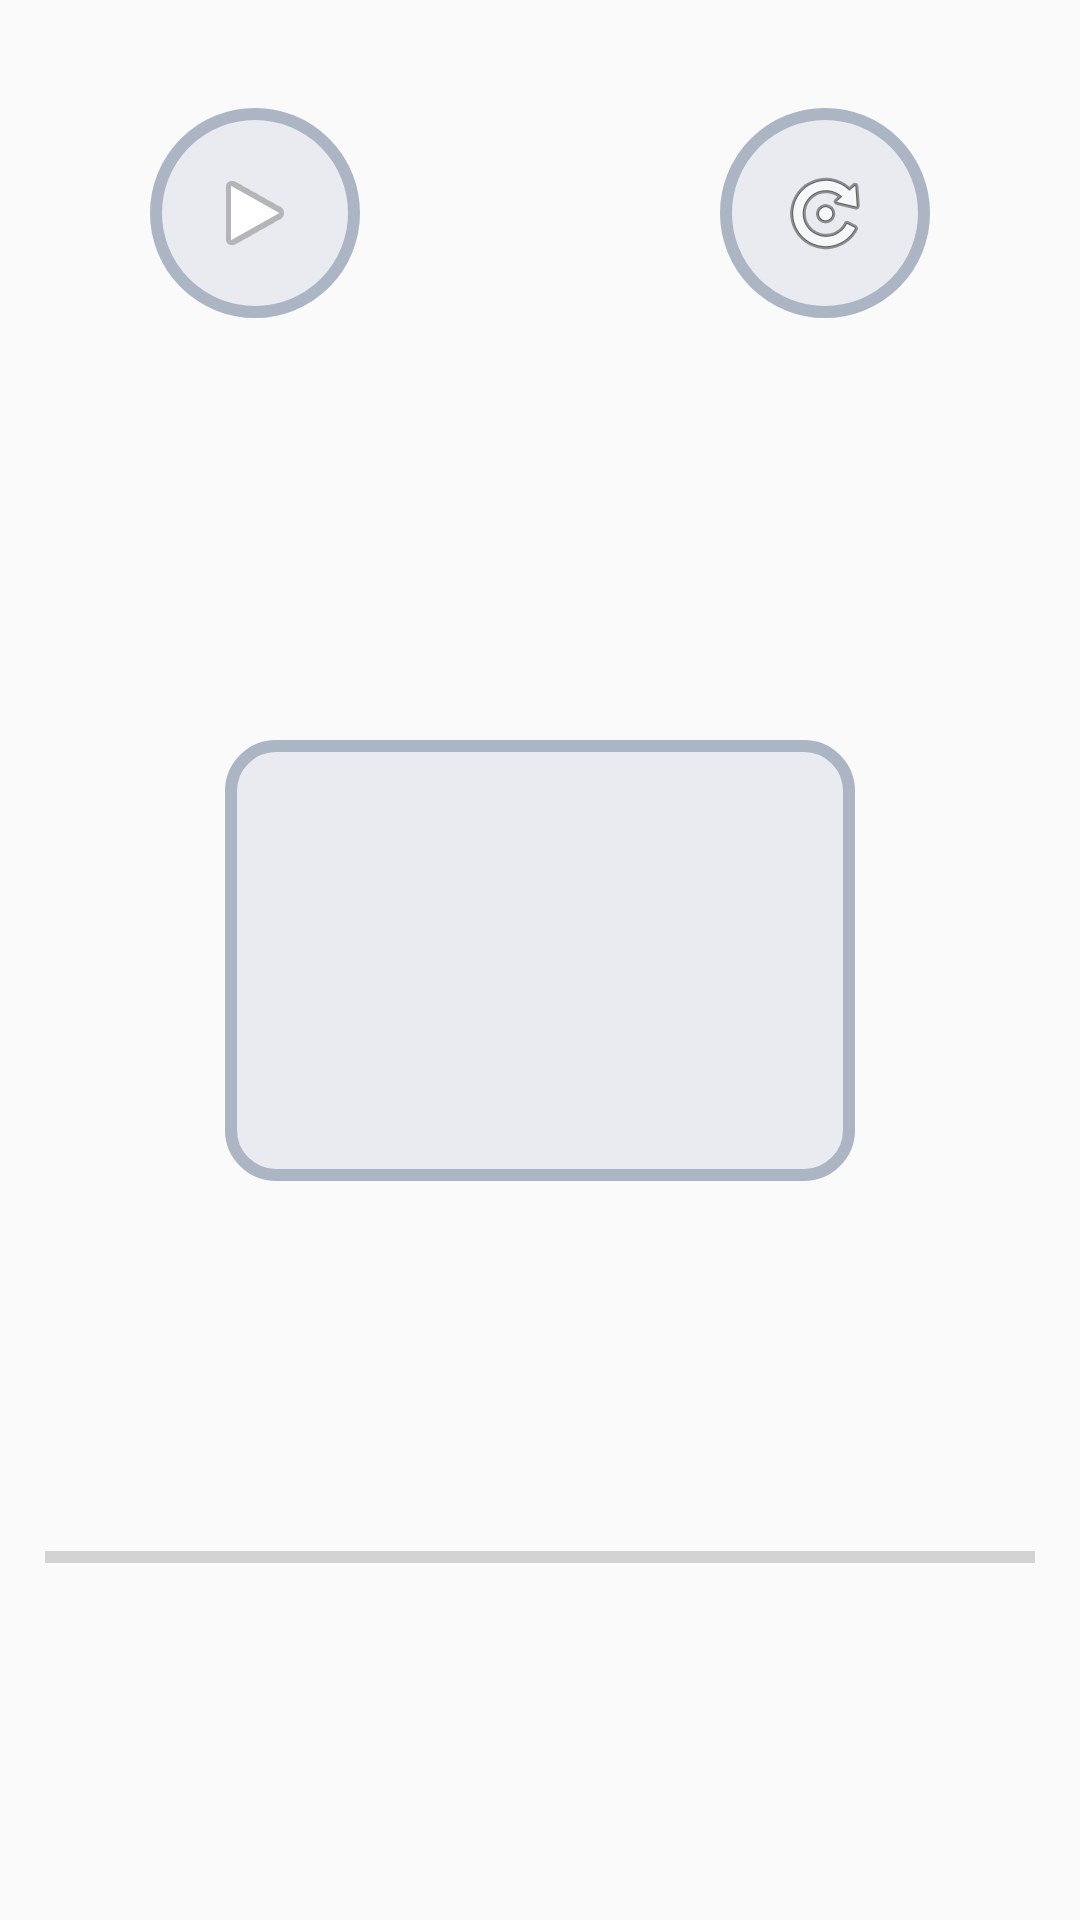

Screen size 1080*1920. Icon name, then its center in pixels as (x,y):
play: (255,213)
rotate: (825,213)
